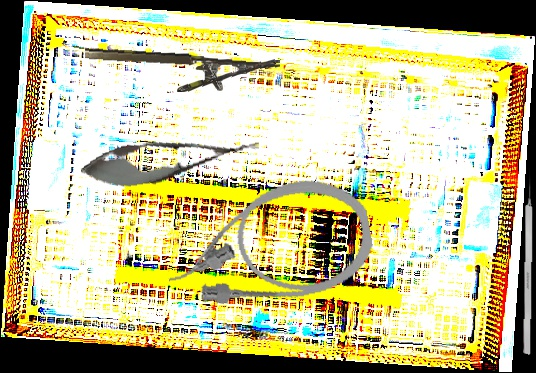Cannula: (155, 169, 380, 320)
Hook Surgical: (522, 169, 535, 355)
Micro Scissor: (77, 122, 263, 196)
Needle Holder: (82, 46, 281, 99)
